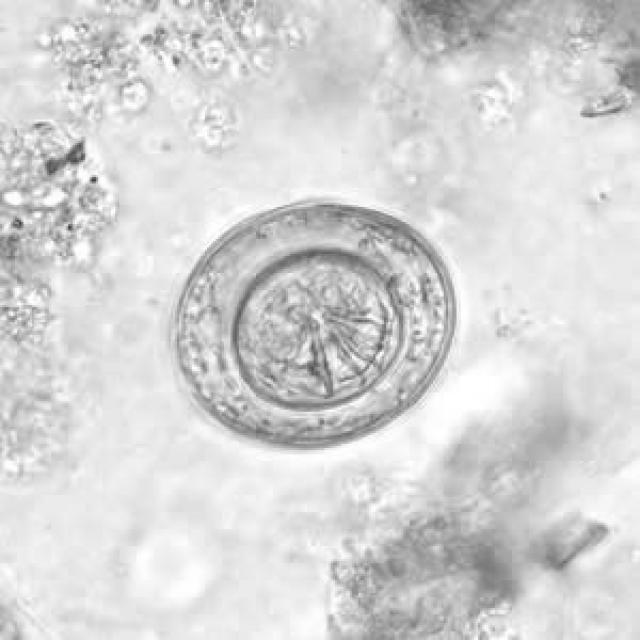Hymenolepis: (161, 191, 460, 453)
